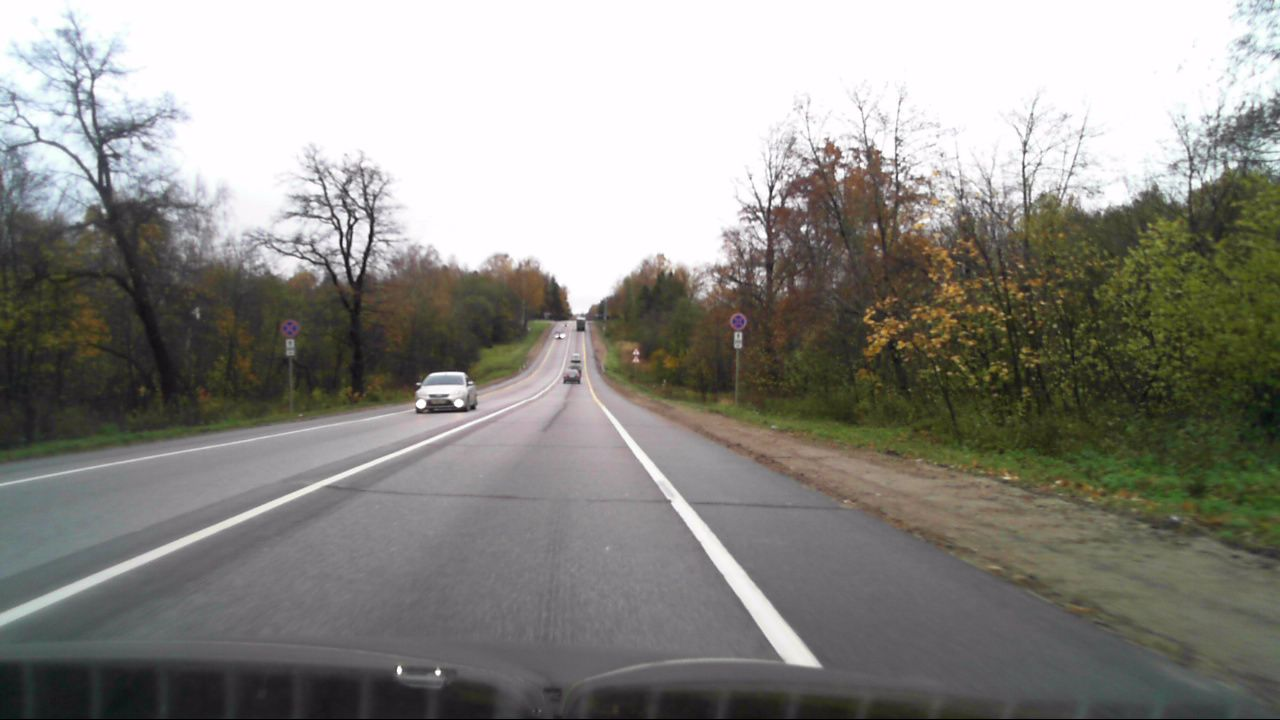No Parking: (281, 318, 298, 336)
